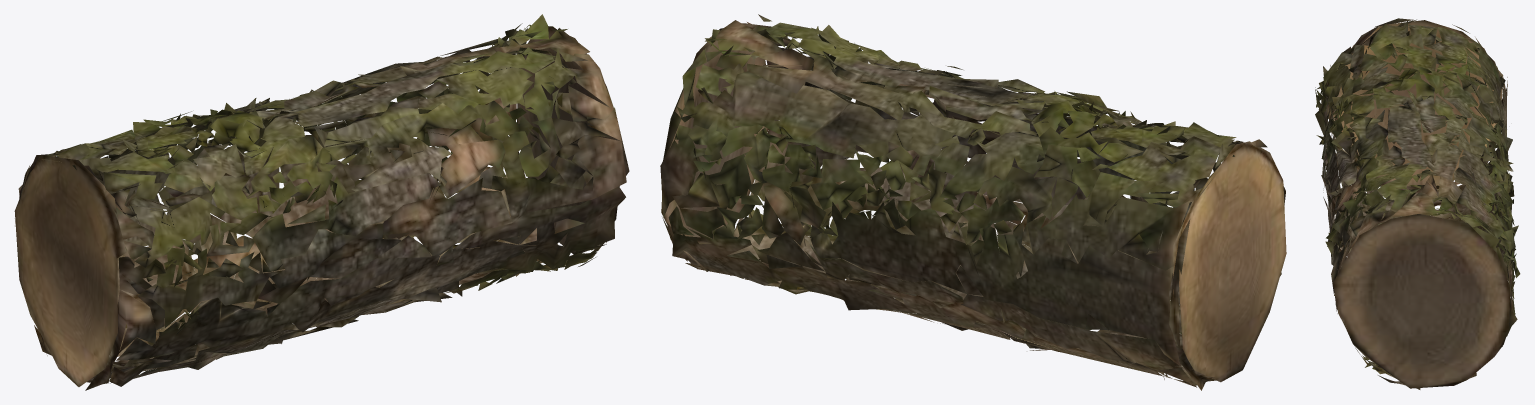
Rendered from wald_baumstamm.glb.
3 renders of one model, left to right at view 1: azimuth 30°, elevation 25°; view 2: azimuth 150°, elevation 25°; view 3: azimuth 270°, elevation 25°, orthographic. The views are drawn at different scales.
Visible parts, largest first — view 1: Prop; view 2: Prop; view 3: Prop.
Boxes of the visible parts, x1,y1,x2,y2 form: Prop: (14, 14, 629, 390); Prop: (660, 14, 1286, 390); Prop: (1315, 18, 1520, 389).
Size of the model in its own units: 2.34 by 1.05 by 1.01.
1 material, 1 textured.
